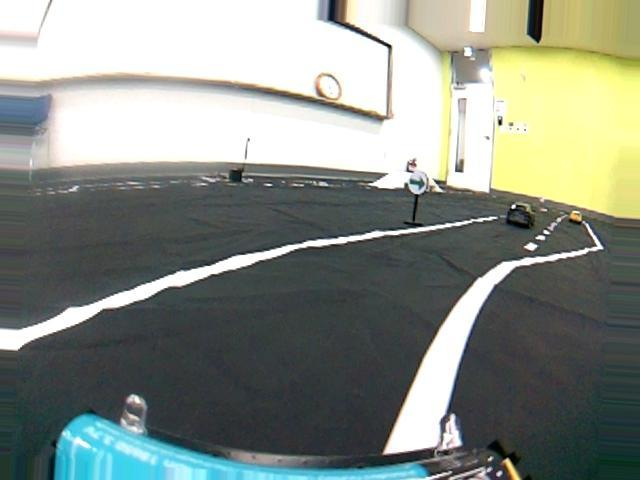car: (504, 199, 535, 228), (568, 207, 585, 224)
right: (1, 197, 640, 480)
sign_right: (407, 171, 428, 194)
